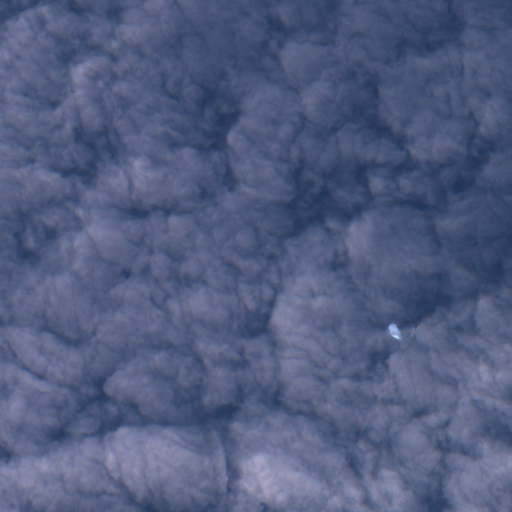Iceberg: (388, 323, 400, 339)
